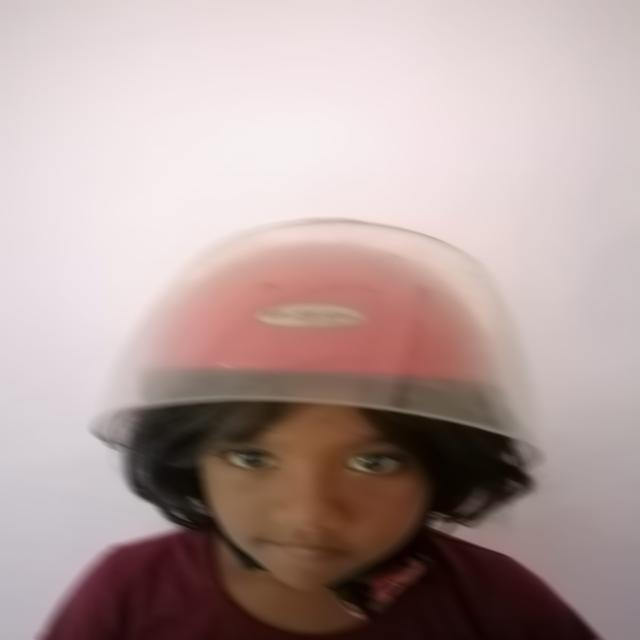With Helmet: (104, 218, 545, 468)
